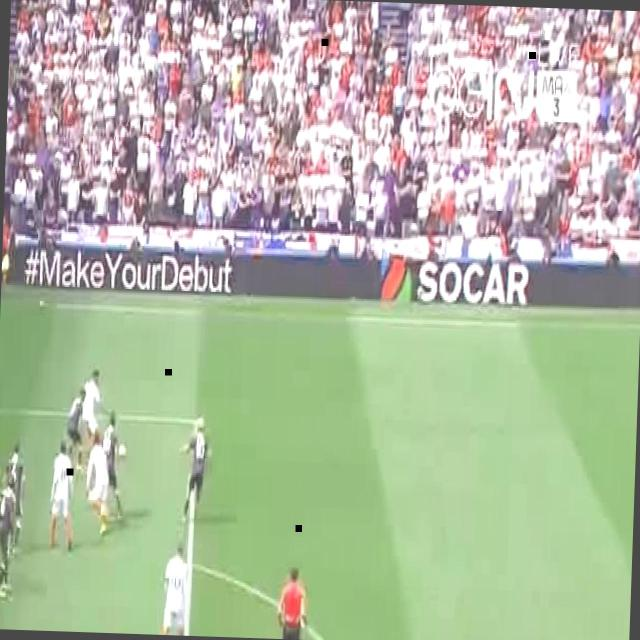ball: (118, 444, 126, 456)
player-white: (177, 416, 210, 527), (156, 544, 190, 636), (48, 441, 76, 551), (85, 428, 112, 534), (100, 411, 126, 521), (275, 562, 307, 640), (4, 444, 26, 554), (78, 370, 102, 460), (0, 475, 16, 598), (64, 388, 86, 470), (1, 214, 9, 284)
